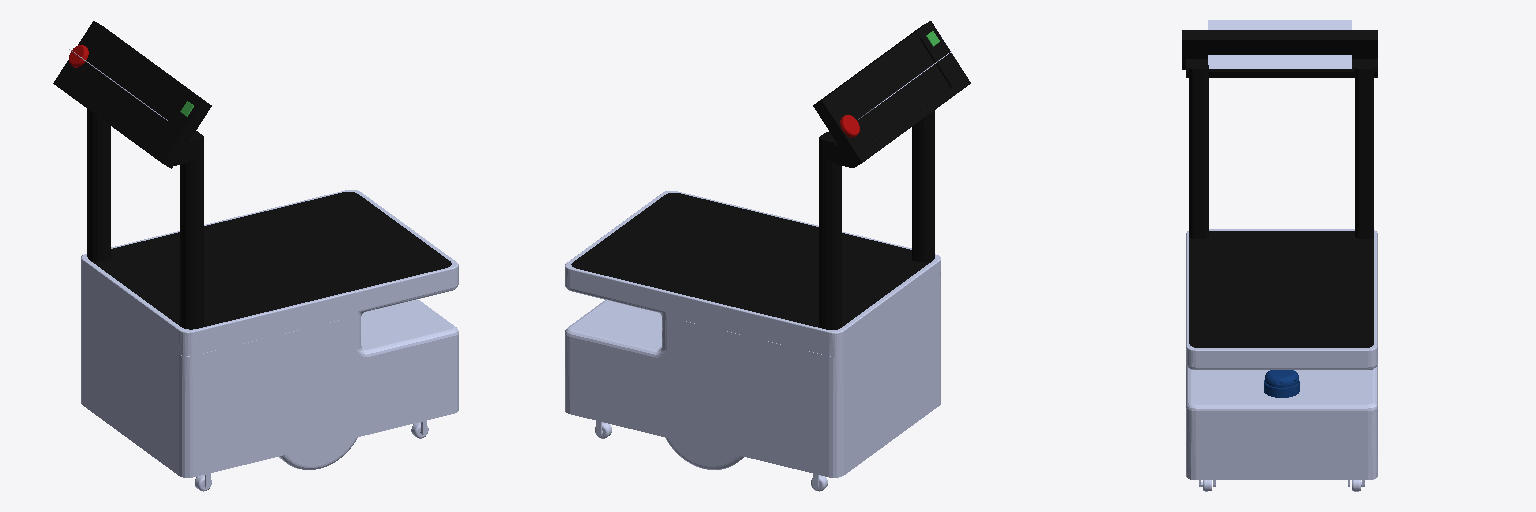
--- Facts derived from the render (not from the file) ---
3 views of the same robot in one strip: view 1: azimuth 30°, elevation 25°; view 2: azimuth 150°, elevation 25°; view 3: azimuth 270°, elevation 25° (orthographic).
Robot: transport_robot_vr — 21 links, 20 joints (11 continuous, 9 fixed); root link base_link; default pose: all joints at 0.
Visible links, largest first — view 1: base_link, black_plate, display_cover, right_wheel; view 2: base_link, black_plate, display_cover, left_wheel; view 3: black_plate, base_link, display_cover, display_top, sensor_lidar.
Link boxes in pixels (x1=…): base_link: x1=81, y1=190, x2=458, y2=477; black_plate: x1=87, y1=109, x2=451, y2=329; display_cover: x1=53, y1=21, x2=211, y2=168; right_wheel: x1=279, y1=437, x2=357, y2=469; base_link: x1=565, y1=191, x2=940, y2=477; black_plate: x1=571, y1=110, x2=934, y2=329; display_cover: x1=813, y1=21, x2=970, y2=167; left_wheel: x1=666, y1=438, x2=743, y2=469; black_plate: x1=1186, y1=59, x2=1377, y2=347; base_link: x1=1186, y1=229, x2=1377, y2=479; display_cover: x1=1182, y1=30, x2=1377, y2=69; display_top: x1=1208, y1=20, x2=1351, y2=68; sensor_lidar: x1=1264, y1=370, x2=1299, y2=397.
Size in the robot's own frame: 0.6514 by 0.408 by 0.8301 metres.
21 mesh visuals loaded from 21 distinct referenced files (21 binary STL).

URDF robot description (transport_robot_vr):
<?xml version="1.0" encoding="utf-8"?>
<!-- This URDF was automatically created by SolidWorks to URDF Exporter! Originally created by Stephen Brawner ([email redacted]) 
     Commit Version: 1.6.0-1-g15f4949  Build Version: 1.6.7594.29634
     For more information, please see http://wiki.ros.org/sw_urdf_exporter -->
<robot
  name="transport_robot_vr">
  <link
    name="base_link">
    <inertial>
      <origin
        xyz="0.239272597139028 -0.425686911152442 0.316400014216297"
        rpy="0 0 0" />
      <mass
        value="7.7126313352559" />
      <inertia
        ixx="0.218043843984486"
        ixy="0.000214487881946537"
        ixz="-0.00335723776646078"
        iyy="0.40292384723583"
        iyz="-0.000177114555396355"
        izz="0.475143645241875" />
    </inertial>
    <visual>
      <origin
        xyz="0 0 0"
        rpy="0 0 0" />
      <geometry>
        <mesh
          filename="package://transport_robot_vr/meshes/base_link.STL" />
      </geometry>
      <material
        name="">
        <color
          rgba="0.792156862745098 0.819607843137255 0.933333333333333 1" />
      </material>
    </visual>
    <collision>
      <origin
        xyz="0 0 0"
        rpy="0 0 0" />
      <geometry>
        <mesh
          filename="package://transport_robot_vr/meshes/base_link.STL" />
      </geometry>
    </collision>
  </link>
  <link
    name="right_wheel">
    <inertial>
      <origin
        xyz="-1.63452584800439E-13 0.0174517845569556 5.28466159721575E-14"
        rpy="0 0 0" />
      <mass
        value="1.05554979431065" />
      <inertia
        ixx="0.00272800018154041"
        ixy="8.75663073210922E-18"
        ixz="-1.35019141393646E-15"
        iyy="0.00524638214807145"
        iyz="-2.67459722759963E-18"
        izz="0.00272800018153667" />
    </inertial>
    <visual>
      <origin
        xyz="0 0 0"
        rpy="0 0 0" />
      <geometry>
        <mesh
          filename="package://transport_robot_vr/meshes/right_wheel.STL" />
      </geometry>
      <material
        name="">
        <color
          rgba="0.792156862745098 0.819607843137255 0.933333333333333 1" />
      </material>
    </visual>
    <collision>
      <origin
        xyz="0 0 0"
        rpy="0 0 0" />
      <geometry>
        <mesh
          filename="package://transport_robot_vr/meshes/right_wheel.STL" />
      </geometry>
    </collision>
  </link>
  <joint
    name="right_wheel_joint"
    type="continuous">
    <origin
      xyz="0.23478 -0.61592 0.25068"
      rpy="0 0 0" />
    <parent
      link="base_link" />
    <child
      link="right_wheel" />
    <axis
      xyz="0 -1 0" />
    <limit
      effort="10"
      velocity="10" />
  </joint>
  <link
    name="left_wheel">
    <inertial>
      <origin
        xyz="-5.68156632851924E-14 -0.0174517845569556 1.62092561595273E-13"
        rpy="0 0 0" />
      <mass
        value="1.05554979431065" />
      <inertia
        ixx="0.00272800018153674"
        ixy="-2.59356417157785E-18"
        ixz="-1.44166636781721E-15"
        iyy="0.00524638214807144"
        iyz="8.24078023340408E-18"
        izz="0.00272800018154034" />
    </inertial>
    <visual>
      <origin
        xyz="0 0 0"
        rpy="0 0 0" />
      <geometry>
        <mesh
          filename="package://transport_robot_vr/meshes/left_wheel.STL" />
      </geometry>
      <material
        name="">
        <color
          rgba="0.792156862745098 0.819607843137255 0.933333333333333 1" />
      </material>
    </visual>
    <collision>
      <origin
        xyz="0 0 0"
        rpy="0 0 0" />
      <geometry>
        <mesh
          filename="package://transport_robot_vr/meshes/left_wheel.STL" />
      </geometry>
    </collision>
  </link>
  <joint
    name="left_wheel_joint"
    type="continuous">
    <origin
      xyz="0.23478 -0.23592 0.25068"
      rpy="0 0 0" />
    <parent
      link="base_link" />
    <child
      link="left_wheel" />
    <axis
      xyz="0 1 0" />
    <limit
      effort="10"
      velocity="10" />
  </joint>
  <link
    name="caster_plate_fr">
    <inertial>
      <origin
        xyz="-1.11022302462516E-16 0.00356951327933422 0"
        rpy="0 0 0" />
      <mass
        value="0.0110152652413026" />
      <inertia
        ixx="1.96229535018149E-06"
        ixy="-7.15245554726787E-23"
        ixz="-3.1415926535898E-07"
        iyy="3.70754403396775E-06"
        iyz="-1.42886085432354E-25"
        izz="1.9622953501815E-06" />
    </inertial>
    <visual>
      <origin
        xyz="0 0 0"
        rpy="0 0 0" />
      <geometry>
        <mesh
          filename="package://transport_robot_vr/meshes/caster_plate_fr.STL" />
      </geometry>
      <material
        name="">
        <color
          rgba="0.792156862745098 0.819607843137255 0.933333333333333 1" />
      </material>
    </visual>
    <collision>
      <origin
        xyz="0 0 0"
        rpy="0 0 0" />
      <geometry>
        <mesh
          filename="package://transport_robot_vr/meshes/caster_plate_fr.STL" />
      </geometry>
    </collision>
  </link>
  <joint
    name="caster_plate_fr_joint"
    type="fixed">
    <origin
      xyz="0.46814 -0.5815 0.20068"
      rpy="1.5708 0 0.1974" />
    <parent
      link="base_link" />
    <child
      link="caster_plate_fr" />
    <axis
      xyz="0 0 0" />
  </joint>
  <link
    name="caster_bracket_fr">
    <inertial>
      <origin
        xyz="-0.000319556225215512 -0.0210926454002197 0"
        rpy="0 0 0" />
      <mass
        value="0.00691249977391735" />
      <inertia
        ixx="1.19530519458312E-06"
        ixy="-3.07204052635806E-08"
        ixz="-1.46576404544397E-21"
        iyy="9.65073272963259E-07"
        iyz="-6.41064974728596E-22"
        izz="2.05852583374966E-06" />
    </inertial>
    <visual>
      <origin
        xyz="0 0 0"
        rpy="0 0 0" />
      <geometry>
        <mesh
          filename="package://transport_robot_vr/meshes/caster_bracket_fr.STL" />
      </geometry>
      <material
        name="">
        <color
          rgba="0.792156862745098 0.819607843137255 0.933333333333333 1" />
      </material>
    </visual>
    <collision>
      <origin
        xyz="0 0 0"
        rpy="0 0 0" />
      <geometry>
        <mesh
          filename="package://transport_robot_vr/meshes/caster_bracket_fr.STL" />
      </geometry>
    </collision>
  </link>
  <joint
    name="caster_bracket_fr_joint"
    type="continuous">
    <origin
      xyz="0 0 0"
      rpy="0 1.3892 0" />
    <parent
      link="caster_plate_fr" />
    <child
      link="caster_bracket_fr" />
    <axis
      xyz="0 1 0" />
    <limit
      effort="1"
      velocity="1" />
  </joint>
  <link
    name="caster_wheel_fr">
    <inertial>
      <origin
        xyz="1.11022302462516E-16 1.11022302462516E-16 -2.22044604925031E-16"
        rpy="0 0 0" />
      <mass
        value="0.0116303796732426" />
      <inertia
        ixx="1.03878606847179E-06"
        ixy="-9.11643507912934E-23"
        ixz="2.15149677325042E-21"
        iyy="1.03878606847179E-06"
        iyz="1.02156805650299E-22"
        izz="1.38797982012729E-06" />
    </inertial>
    <visual>
      <origin
        xyz="0 0 0"
        rpy="0 0 0" />
      <geometry>
        <mesh
          filename="package://transport_robot_vr/meshes/caster_wheel_fr.STL" />
      </geometry>
      <material
        name="">
        <color
          rgba="0.792156862745098 0.819607843137255 0.933333333333333 1" />
      </material>
    </visual>
    <collision>
      <origin
        xyz="0 0 0"
        rpy="0 0 0" />
      <geometry>
        <mesh
          filename="package://transport_robot_vr/meshes/caster_wheel_fr.STL" />
      </geometry>
    </collision>
  </link>
  <joint
    name="caster_wheel_fr_joint"
    type="continuous">
    <origin
      xyz="0 -0.035 0"
      rpy="-1.5708 1.1183 1.5708" />
    <parent
      link="caster_bracket_fr" />
    <child
      link="caster_wheel_fr" />
    <axis
      xyz="0 0 1" />
    <limit
      effort="1"
      velocity="1" />
  </joint>
  <link
    name="caster_plate_fl">
    <inertial>
      <origin
        xyz="-2.77555756156289E-17 0.00356951327933419 0"
        rpy="0 0 0" />
      <mass
        value="0.0110152652413026" />
      <inertia
        ixx="1.9622953501815E-06"
        ixy="3.03304008234509E-23"
        ixz="-3.14159265358981E-07"
        iyy="3.70754403396775E-06"
        iyz="-8.0031743736764E-23"
        izz="1.9622953501815E-06" />
    </inertial>
    <visual>
      <origin
        xyz="0 0 0"
        rpy="0 0 0" />
      <geometry>
        <mesh
          filename="package://transport_robot_vr/meshes/caster_plate_fl.STL" />
      </geometry>
      <material
        name="">
        <color
          rgba="0.792156862745098 0.819607843137255 0.933333333333333 1" />
      </material>
    </visual>
    <collision>
      <origin
        xyz="0 0 0"
        rpy="0 0 0" />
      <geometry>
        <mesh
          filename="package://transport_robot_vr/meshes/caster_plate_fl.STL" />
      </geometry>
    </collision>
  </link>
  <joint
    name="caster_plate_fl_joint"
    type="fixed">
    <origin
      xyz="0.46814 -0.27035 0.20068"
      rpy="1.5708 0 1.3734" />
    <parent
      link="base_link" />
    <child
      link="caster_plate_fl" />
    <axis
      xyz="0 0 0" />
  </joint>
  <link
    name="caster_bracket_fl">
    <inertial>
      <origin
        xyz="-0.000319556225215401 -0.0210926454002197 0"
        rpy="0 0 0" />
      <mass
        value="0.00691249977391736" />
      <inertia
        ixx="1.19530519458312E-06"
        ixy="-3.07204052635809E-08"
        ixz="-5.97999884087554E-21"
        iyy="9.65073272963258E-07"
        iyz="-5.18984748543134E-22"
        izz="2.05852583374966E-06" />
    </inertial>
    <visual>
      <origin
        xyz="0 0 0"
        rpy="0 0 0" />
      <geometry>
        <mesh
          filename="package://transport_robot_vr/meshes/caster_bracket_fl.STL" />
      </geometry>
      <material
        name="">
        <color
          rgba="0.792156862745098 0.819607843137255 0.933333333333333 1" />
      </material>
    </visual>
    <collision>
      <origin
        xyz="0 0 0"
        rpy="0 0 0" />
      <geometry>
        <mesh
          filename="package://transport_robot_vr/meshes/caster_bracket_fl.STL" />
      </geometry>
    </collision>
  </link>
  <joint
    name="caster_bracket_fl_joint"
    type="continuous">
    <origin
      xyz="0 0 0"
      rpy="3.14159265358979 -0.196320698416971 3.14159265358979" />
    <parent
      link="caster_plate_fl" />
    <child
      link="caster_bracket_fl" />
    <axis
      xyz="0 1 0" />
    <limit
      effort="1"
      velocity="1" />
  </joint>
  <link
    name="caster_wheel_fl">
    <inertial>
      <origin
        xyz="0 5.55111512312578E-17 -5.55111512312578E-17"
        rpy="0 0 0" />
      <mass
        value="0.0116303796732426" />
      <inertia
        ixx="1.03878606847178E-06"
        ixy="-6.76026280306033E-23"
        ixz="2.90960780465527E-22"
        iyy="1.03878606847178E-06"
        iyz="1.65849712816882E-22"
        izz="1.38797982012728E-06" />
    </inertial>
    <visual>
      <origin
        xyz="0 0 0"
        rpy="0 0 0" />
      <geometry>
        <mesh
          filename="package://transport_robot_vr/meshes/caster_wheel_fl.STL" />
      </geometry>
      <material
        name="">
        <color
          rgba="0.792156862745098 0.819607843137255 0.933333333333333 1" />
      </material>
    </visual>
    <collision>
      <origin
        xyz="0 0 0"
        rpy="0 0 0" />
      <geometry>
        <mesh
          filename="package://transport_robot_vr/meshes/caster_wheel_fl.STL" />
      </geometry>
    </collision>
  </link>
  <joint
    name="caster_wheel_fl_joint"
    type="continuous">
    <origin
      xyz="0 -0.035 0"
      rpy="-1.5707963267949 -0.443434887534806 1.5707963267949" />
    <parent
      link="caster_bracket_fl" />
    <child
      link="caster_wheel_fl" />
    <axis
      xyz="0 0 1" />
    <limit
      effort="1"
      velocity="1" />
  </joint>
  <link
    name="caster_plate_br">
    <inertial>
      <origin
        xyz="0 0.00356951327933422 0"
        rpy="0 0 0" />
      <mass
        value="0.0110152652413026" />
      <inertia
        ixx="1.9622953501815E-06"
        ixy="-6.22580619164119E-22"
        ixz="-3.1415926535898E-07"
        iyy="3.70754403396775E-06"
        iyz="-1.87537029624561E-23"
        izz="1.9622953501815E-06" />
    </inertial>
    <visual>
      <origin
        xyz="0 0 0"
        rpy="0 0 0" />
      <geometry>
        <mesh
          filename="package://transport_robot_vr/meshes/caster_plate_br.STL" />
      </geometry>
      <material
        name="">
        <color
          rgba="0.792156862745098 0.819607843137255 0.933333333333333 1" />
      </material>
    </visual>
    <collision>
      <origin
        xyz="0 0 0"
        rpy="0 0 0" />
      <geometry>
        <mesh
          filename="package://transport_robot_vr/meshes/caster_plate_br.STL" />
      </geometry>
    </collision>
  </link>
  <joint
    name="caster_plate_br_joint"
    type="fixed">
    <origin
      xyz="0.00142418339285124 -0.581495282713603 0.200680039064964"
      rpy="1.5707963267949 0 1.37340076694502" />
    <parent
      link="base_link" />
    <child
      link="caster_plate_br" />
    <axis
      xyz="0 0 0" />
  </joint>
  <link
    name="caster_bracket_br">
    <inertial>
      <origin
        xyz="-0.000319556225215734 -0.0210926454002198 -1.59247615094671E-15"
        rpy="0 0 0" />
      <mass
        value="0.00691249977391736" />
      <inertia
        ixx="1.19530519458312E-06"
        ixy="-3.07204052635803E-08"
        ixz="-1.33030494833228E-19"
        iyy="9.65073272963259E-07"
        iyz="-4.5221964088274E-21"
        izz="2.05852583374966E-06" />
    </inertial>
    <visual>
      <origin
        xyz="0 0 0"
        rpy="0 0 0" />
      <geometry>
        <mesh
          filename="package://transport_robot_vr/meshes/caster_bracket_br.STL" />
      </geometry>
      <material
        name="">
        <color
          rgba="0.792156862745098 0.819607843137255 0.933333333333333 1" />
      </material>
    </visual>
    <collision>
      <origin
        xyz="0 0 0"
        rpy="0 0 0" />
      <geometry>
        <mesh
          filename="package://transport_robot_vr/meshes/caster_bracket_br.STL" />
      </geometry>
    </collision>
  </link>
  <joint
    name="caster_bracket_br_joint"
    type="continuous">
    <origin
      xyz="0 0 0"
      rpy="3.14159265358979 -0.242747723344276 3.14159265358979" />
    <parent
      link="caster_plate_br" />
    <child
      link="caster_bracket_br" />
    <axis
      xyz="0 1 0" />
    <limit
      effort="1"
      velocity="1" />
  </joint>
  <link
    name="caster_wheel_br">
    <inertial>
      <origin
        xyz="-3.88578058618805E-16 8.32667268468867E-17 0"
        rpy="0 0 0" />
      <mass
        value="0.0116303796732426" />
      <inertia
        ixx="1.03878606847179E-06"
        ixy="-2.50222135297291E-23"
        ixz="-1.83303223741751E-21"
        iyy="1.03878606847179E-06"
        iyz="-1.29040175558272E-21"
        izz="1.38797982012729E-06" />
    </inertial>
    <visual>
      <origin
        xyz="0 0 0"
        rpy="0 0 0" />
      <geometry>
        <mesh
          filename="package://transport_robot_vr/meshes/caster_wheel_br.STL" />
      </geometry>
      <material
        name="">
        <color
          rgba="0.792156862745098 0.819607843137255 0.933333333333333 1" />
      </material>
    </visual>
    <collision>
      <origin
        xyz="0 0 0"
        rpy="0 0 0" />
      <geometry>
        <mesh
          filename="package://transport_robot_vr/meshes/caster_wheel_br.STL" />
      </geometry>
    </collision>
  </link>
  <joint
    name="caster_wheel_br_joint"
    type="continuous">
    <origin
      xyz="0 -0.035 0"
      rpy="1.57079632679507 -0.562369153856253 -1.57079632679499" />
    <parent
      link="caster_bracket_br" />
    <child
      link="caster_wheel_br" />
    <axis
      xyz="0 0 1" />
    <limit
      effort="1"
      velocity="1" />
  </joint>
  <link
    name="caster_plate_bl">
    <inertial>
      <origin
        xyz="0 0.00356951327933422 0"
        rpy="0 0 0" />
      <mass
        value="0.0110152652413026" />
      <inertia
        ixx="1.9622953501815E-06"
        ixy="-5.74405903814142E-23"
        ixz="-3.14159265358981E-07"
        iyy="3.70754403396775E-06"
        iyz="5.22479757380569E-23"
        izz="1.9622953501815E-06" />
    </inertial>
    <visual>
      <origin
        xyz="0 0 0"
        rpy="0 0 0" />
      <geometry>
        <mesh
          filename="package://transport_robot_vr/meshes/caster_plate_bl.STL" />
      </geometry>
      <material
        name="">
        <color
          rgba="0.792156862745098 0.819607843137255 0.933333333333333 1" />
      </material>
    </visual>
    <collision>
      <origin
        xyz="0 0 0"
        rpy="0 0 0" />
      <geometry>
        <mesh
          filename="package://transport_robot_vr/meshes/caster_plate_bl.STL" />
      </geometry>
    </collision>
  </link>
  <joint
    name="caster_plate_bl_joint"
    type="fixed">
    <origin
      xyz="0.00142418339285285 -0.270349957229279 0.200680039064964"
      rpy="1.5707963267949 0 0.197395559849882" />
    <parent
      link="base_link" />
    <child
      link="caster_plate_bl" />
    <axis
      xyz="0 0 0" />
  </joint>
  <link
    name="caster_bracket_bl">
    <inertial>
      <origin
        xyz="-0.000319556225215401 -0.0210926454002197 -1.04083408558608E-17"
        rpy="0 0 0" />
      <mass
        value="0.00691249977391735" />
      <inertia
        ixx="1.19530519458312E-06"
        ixy="-3.07204052635812E-08"
        ixz="-2.04479047423108E-21"
        iyy="9.65073272963255E-07"
        iyz="-1.42688655665397E-22"
        izz="2.05852583374966E-06" />
    </inertial>
    <visual>
      <origin
        xyz="0 0 0"
        rpy="0 0 0" />
      <geometry>
        <mesh
          filename="package://transport_robot_vr/meshes/caster_bracket_bl.STL" />
      </geometry>
      <material
        name="">
        <color
          rgba="0.792156862745098 0.819607843137255 0.933333333333333 1" />
      </material>
    </visual>
    <collision>
      <origin
        xyz="0 0 0"
        rpy="0 0 0" />
      <geometry>
        <mesh
          filename="package://transport_robot_vr/meshes/caster_bracket_bl.STL" />
      </geometry>
    </collision>
  </link>
  <joint
    name="caster_bracket_bl_joint"
    type="continuous">
    <origin
      xyz="0 0 0"
      rpy="0 1.44537361445908 0" />
    <parent
      link="caster_plate_bl" />
    <child
      link="caster_bracket_bl" />
    <axis
      xyz="0 1 0" />
    <limit
      effort="1"
      velocity="1" />
  </joint>
  <link
    name="caster_wheel_bl">
    <inertial>
      <origin
        xyz="-1.38777878078145E-17 0 0"
        rpy="0 0 0" />
      <mass
        value="0.0116303796732426" />
      <inertia
        ixx="1.03878606847178E-06"
        ixy="-3.15879596418687E-23"
        ixz="1.32348898008484E-23"
        iyy="1.03878606847178E-06"
        iyz="-2.56425989891439E-23"
        izz="1.38797982012728E-06" />
    </inertial>
    <visual>
      <origin
        xyz="0 0 0"
        rpy="0 0 0" />
      <geometry>
        <mesh
          filename="package://transport_robot_vr/meshes/caster_wheel_bl.STL" />
      </geometry>
      <material
        name="">
        <color
          rgba="0.792156862745098 0.819607843137255 0.933333333333333 1" />
      </material>
    </visual>
    <collision>
      <origin
        xyz="0 0 0"
        rpy="0 0 0" />
      <geometry>
        <mesh
          filename="package://transport_robot_vr/meshes/caster_wheel_bl.STL" />
      </geometry>
    </collision>
  </link>
  <joint
    name="caster_wheel_bl_joint"
    type="continuous">
    <origin
      xyz="0 -0.035 0"
      rpy="1.57079632679491 -1.42706514226592 -1.57079632679491" />
    <parent
      link="caster_bracket_bl" />
    <child
      link="caster_wheel_bl" />
    <axis
      xyz="0 0 1" />
    <limit
      effort="1"
      velocity="1" />
  </joint>
  <link
    name="sensor_lidar">
    <inertial>
      <origin
        xyz="-0.000230584762147212 0.0189969048128179 -1.93320381924877E-09"
        rpy="0 0 0" />
      <mass
        value="0.162442510419219" />
      <inertia
        ixx="7.45189883631214E-05"
        ixy="4.83673451301878E-07"
        ixz="7.31792018034995E-12"
        iyy="0.000105566723329811"
        iyz="3.42008473865005E-12"
        izz="7.3925728454446E-05" />
    </inertial>
    <visual>
      <origin
        xyz="0 0 0"
        rpy="0 0 0" />
      <geometry>
        <mesh
          filename="package://transport_robot_vr/meshes/sensor_lidar.STL" />
      </geometry>
      <material
        name="">
        <color
          rgba="0.117647058823529 0.27843137254902 0.517647058823529 1" />
      </material>
    </visual>
    <collision>
      <origin
        xyz="0 0 0"
        rpy="0 0 0" />
      <geometry>
        <mesh
          filename="package://transport_robot_vr/meshes/sensor_lidar.STL" />
      </geometry>
    </collision>
  </link>
  <joint
    name="sensor_lidar_joint"
    type="continuous">
    <origin
      xyz="0.45478 -0.42592 0.37568"
      rpy="1.5708 0 0.3232" />
    <parent
      link="base_link" />
    <child
      link="sensor_lidar" />
    <axis
      xyz="0 1 0" />
    <limit
      effort="1"
      velocity="1" />
  </joint>
  <link
    name="black_plate">
    <inertial>
      <origin
        xyz="-0.115633194104091 0.110452616838506 1.66533453693773E-16"
        rpy="0 0 0" />
      <mass
        value="3.81776734747415" />
      <inertia
        ixx="0.150589880915668"
        ixy="0.0676585423180378"
        ixz="9.35847709405592E-17"
        iyy="0.201899557795147"
        iyz="-2.22866258465586E-17"
        izz="0.218979187666568" />
    </inertial>
    <visual>
      <origin
        xyz="0 0 0"
        rpy="0 0 0" />
      <geometry>
        <mesh
          filename="package://transport_robot_vr/meshes/black_plate.STL" />
      </geometry>
      <material
        name="">
        <color
          rgba="0.101960784313725 0.101960784313725 0.101960784313725 1" />
      </material>
    </visual>
    <collision>
      <origin
        xyz="0 0 0"
        rpy="0 0 0" />
      <geometry>
        <mesh
          filename="package://transport_robot_vr/meshes/black_plate.STL" />
      </geometry>
    </collision>
  </link>
  <joint
    name="black_plate_joint"
    type="fixed">
    <origin
      xyz="0.23478 -0.42592 0.49568"
      rpy="1.5708 0 0" />
    <parent
      link="base_link" />
    <child
      link="black_plate" />
    <axis
      xyz="0 0 0" />
  </joint>
  <link
    name="display_cover">
    <inertial>
      <origin
        xyz="-0.3045337446376 0.374950896943882 -5.55111512312578E-17"
        rpy="0 0 0" />
      <mass
        value="1.296" />
      <inertia
        ixx="0.0204782224976095"
        ixy="-0.000930013405754098"
        ixz="-1.43091243839996E-19"
        iyy="0.0194176732523905"
        iyz="-2.24781273343162E-18"
        izz="0.00225746374999999" />
    </inertial>
    <visual>
      <origin
        xyz="0 0 0"
        rpy="0 0 0" />
      <geometry>
        <mesh
          filename="package://transport_robot_vr/meshes/display_cover.STL" />
      </geometry>
      <material
        name="">
        <color
          rgba="0.101960784313725 0.101960784313725 0.101960784313725 1" />
      </material>
    </visual>
    <collision>
      <origin
        xyz="0 0 0"
        rpy="0 0 0" />
      <geometry>
        <mesh
          filename="package://transport_robot_vr/meshes/display_cover.STL" />
      </geometry>
    </collision>
  </link>
  <joint
    name="display_cover_joint"
    type="fixed">
    <origin
      xyz="-0.050663 0.0064728 0.004"
      rpy="0 0 -0.14652" />
    <parent
      link="black_plate" />
    <child
      link="display_cover" />
    <axis
      xyz="0 0 0" />
  </joint>
  <link
    name="display_top">
    <inertial>
      <origin
        xyz="-9.99200722162641E-16 0.000111628391233243 -0.00048737983367253"
        rpy="0 0 0" />
      <mass
        value="0.0329999999999999" />
      <inertia
        ixx="3.32777499999998E-05"
        ixy="5.83401984976003E-19"
        ixz="1.42682431959349E-19"
        iyy="0.000249161158417901"
        iyz="-7.24076384105855E-06"
        izz="0.000279116591582096" />
    </inertial>
    <visual>
      <origin
        xyz="0 0 0"
        rpy="0 0 0" />
      <geometry>
        <mesh
          filename="package://transport_robot_vr/meshes/display_top.STL" />
      </geometry>
      <material
        name="">
        <color
          rgba="0.792156862745098 0.819607843137255 0.933333333333333 1" />
      </material>
    </visual>
    <collision>
      <origin
        xyz="0 0 0"
        rpy="0 0 0" />
      <geometry>
        <mesh
          filename="package://transport_robot_vr/meshes/display_top.STL" />
      </geometry>
    </collision>
  </link>
  <joint
    name="display_top_joint"
    type="fixed">
    <origin
      xyz="-0.3154 0.38126 0"
      rpy="0.75145 -1.5708 0" />
    <parent
      link="display_cover" />
    <child
      link="display_top" />
    <axis
      xyz="0 0 0" />
  </joint>
  <link
    name="emg_button">
    <inertial>
      <origin
        xyz="-1.11022302462516E-16 0.000928979322698864 1.11022302462516E-16"
        rpy="0 0 0" />
      <mass
        value="0.0145013459291552" />
      <inertia
        ixx="1.80052081287291E-06"
        ixy="-1.77622086800263E-22"
        ixz="-5.29395592033938E-23"
        iyy="3.37085407011684E-06"
        iyz="-1.53104664836743E-21"
        izz="1.80052081287291E-06" />
    </inertial>
    <visual>
      <origin
        xyz="0 0 0"
        rpy="0 0 0" />
      <geometry>
        <mesh
          filename="package://transport_robot_vr/meshes/emg_button.STL" />
      </geometry>
      <material
        name="">
        <color
          rgba="0.694117647058824 0.0980392156862745 0.0980392156862745 1" />
      </material>
    </visual>
    <collision>
      <origin
        xyz="0 0 0"
        rpy="0 0 0" />
      <geometry>
        <mesh
          filename="package://transport_robot_vr/meshes/emg_button.STL" />
      </geometry>
    </collision>
  </link>
  <joint
    name="emg_button_joint"
    type="fixed">
    <origin
      xyz="-0.31963 0.38372 -0.179"
      rpy="0 0.85383 1.0445" />
    <parent
      link="display_cover" />
    <child
      link="emg_button" />
    <axis
      xyz="0 0 0" />
  </joint>
  <link
    name="green_button">
    <inertial>
      <origin
        xyz="0.0134747597602842 0.000986677740974939 0.0125000000599694"
        rpy="0 0 0" />
      <mass
        value="0.00122894467110926" />
      <inertia
        ixx="6.33895594338568E-08"
        ixy="3.15291659600342E-16"
        ixz="4.74521610621376E-19"
        iyy="1.25973111940053E-07"
        iyz="-1.20564757801475E-16"
        izz="6.33895594323876E-08" />
    </inertial>
    <visual>
      <origin
        xyz="0 0 0"
        rpy="0 0 0" />
      <geometry>
        <mesh
          filename="package://transport_robot_vr/meshes/green_button.STL" />
      </geometry>
      <material
        name="">
        <color
          rgba="0.286274509803922 0.662745098039216 0.329411764705882 1" />
      </material>
    </visual>
    <collision>
      <origin
        xyz="0 0 0"
        rpy="0 0 0" />
      <geometry>
        <mesh
          filename="package://transport_robot_vr/meshes/green_button.STL" />
      </geometry>
    </collision>
  </link>
  <joint
    name="green_button_joint"
    type="fixed">
    <origin
      xyz="-0.30294 0.4047 0.1665"
      rpy="0 0 1.0445" />
    <parent
      link="display_cover" />
    <child
      link="green_button" />
    <axis
      xyz="0 0 0" />
  </joint>
</robot>
